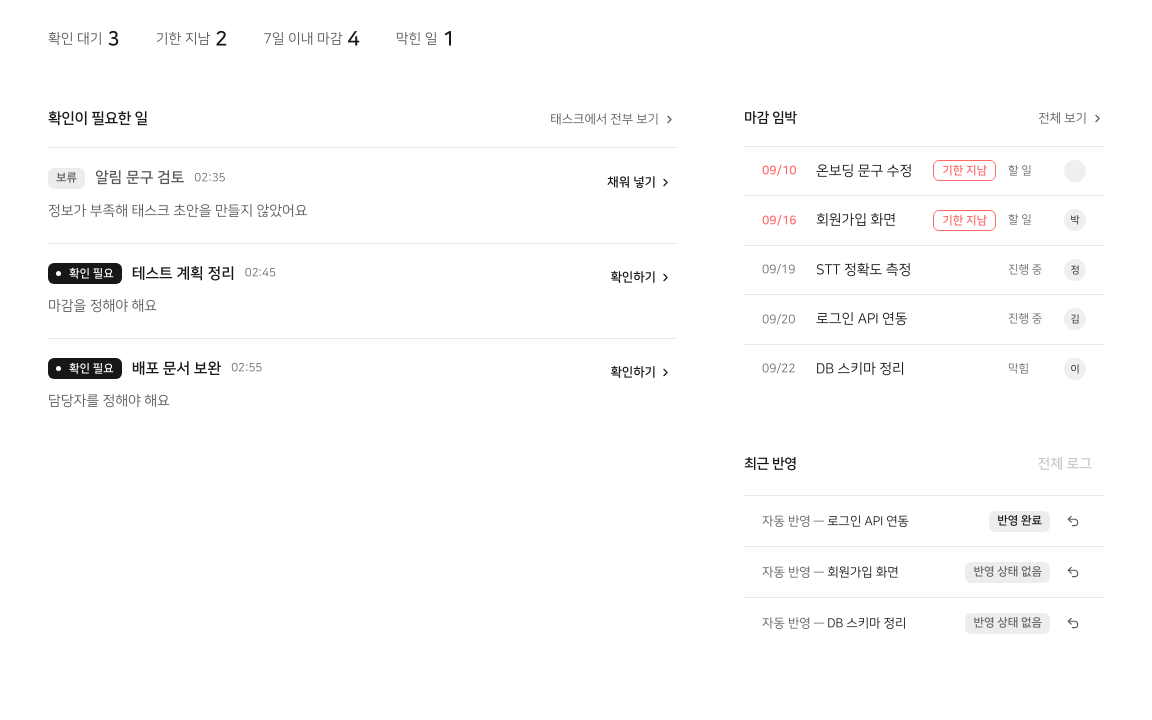
되돌리기 (AC-04) › 취소하면 아무것도 보내지 않고 연 버튼으로 포커스가 돌아온다
(page scrolled)
Expected: the list named "최근 반영 목록" is shown, x1=744 y1=496 x2=1104 y2=648
Click the button named "회원가입 화면 되돌리기".
click(1073, 572)  # box x1=1060 y1=559 x2=1086 y2=585
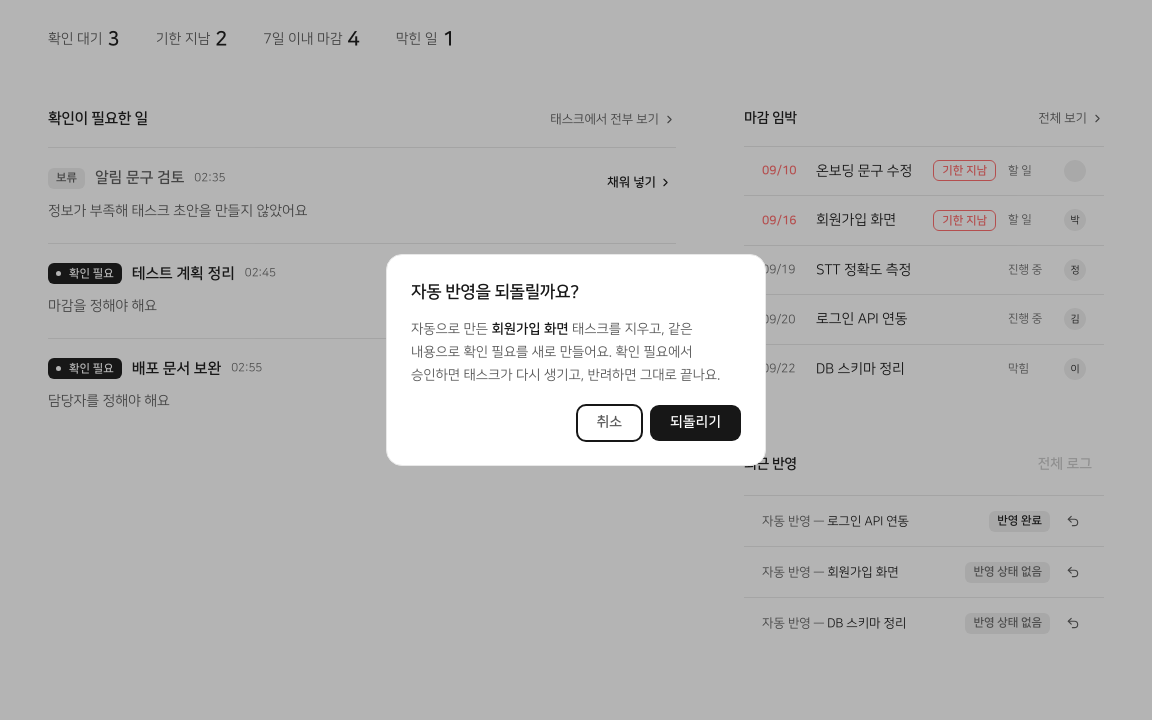
Click the button "취소".
click(609, 423)  # box x1=576 y1=405 x2=642 y2=441
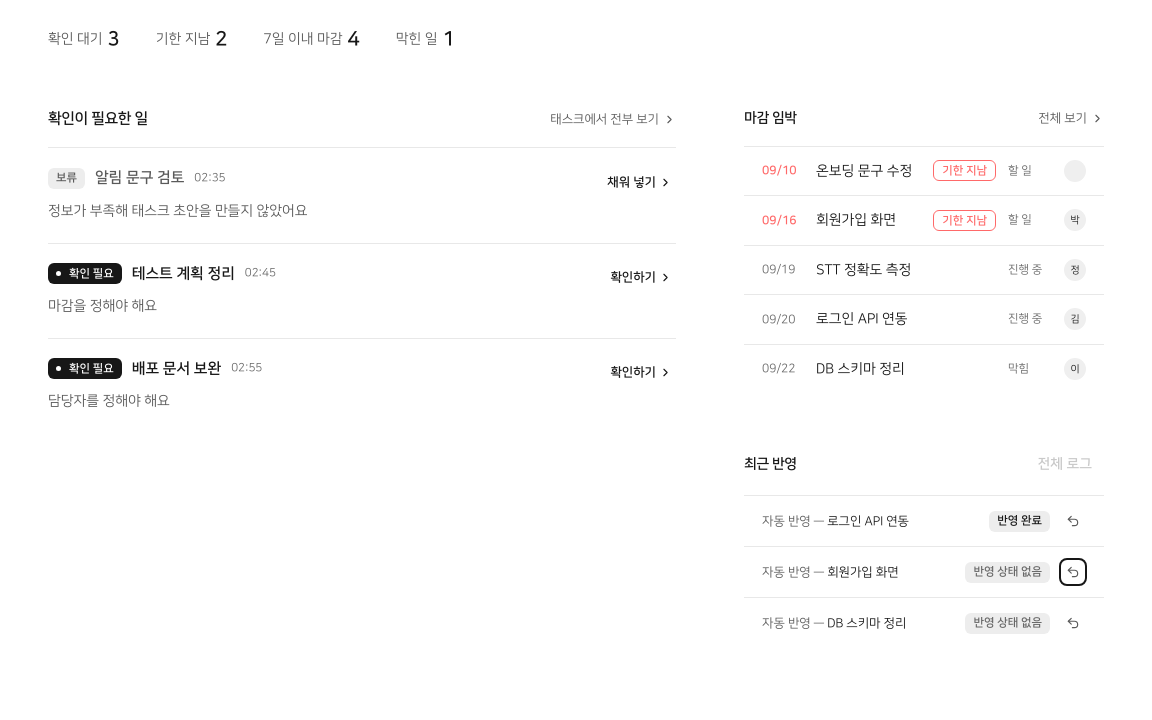
Result: the dialog is gone
